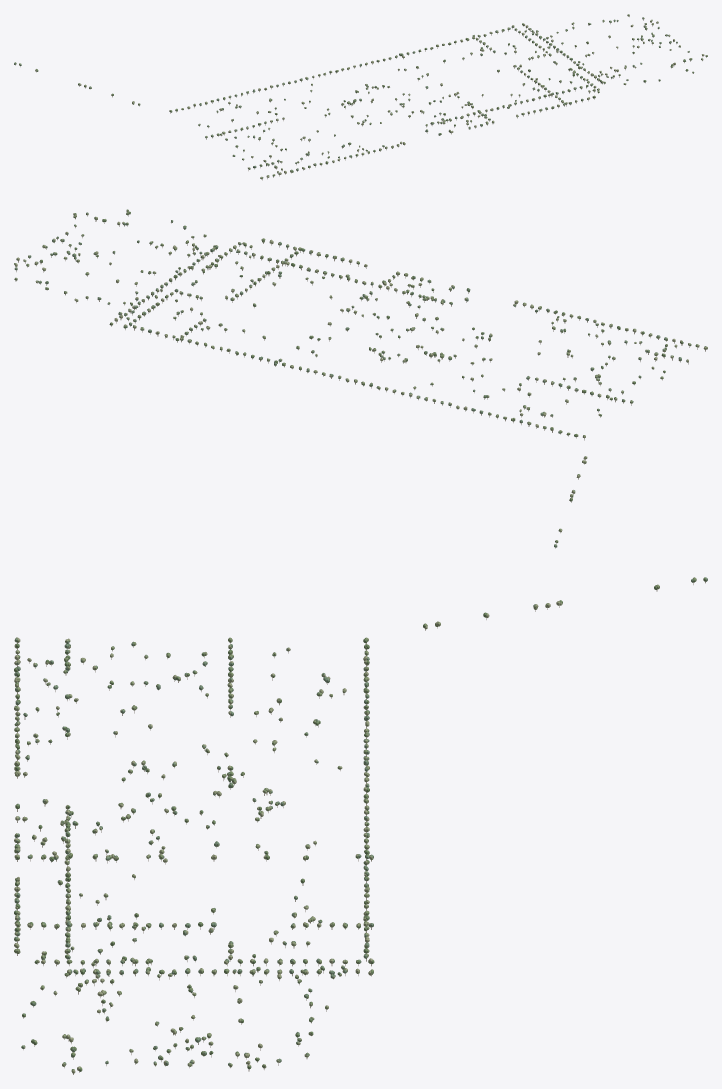
3 renders of one model, top to bottom at view 1: azimuth 30°, elevation 25°; view 2: azimuth 150°, elevation 25°; view 3: azimuth 270°, elevation 25°, orthographic. The views are drawn at different scales.
Parts seen in each view (by area): view 1: Canopy 2 details.001, Canopy 3 details.001, Canopy 4 details.001, Canopy 0 details.001, Canopy 1 details.001, Tree bark details.001; view 2: Canopy 4 details.001, Canopy 3 details.001, Canopy 2 details.001, Canopy 1 details.001, Canopy 0 details.001, Tree bark details.001; view 3: Canopy 3 details.001, Canopy 2 details.001, Canopy 4 details.001, Canopy 0 details.001, Canopy 1 details.001, Tree bark details.001.
Boxes of the visible parts, x1,y1,x2,y2 form: Canopy 2 details.001: (19, 17, 707, 179); Canopy 3 details.001: (14, 14, 702, 178); Canopy 4 details.001: (35, 15, 707, 177); Canopy 0 details.001: (15, 15, 707, 176); Canopy 1 details.001: (19, 14, 701, 172); Tree bark details.001: (15, 20, 706, 180); Canopy 4 details.001: (15, 210, 705, 532); Canopy 3 details.001: (14, 209, 705, 547); Canopy 2 details.001: (14, 212, 707, 530); Canopy 1 details.001: (14, 210, 687, 542); Canopy 0 details.001: (16, 211, 697, 545); Tree bark details.001: (15, 215, 705, 548); Canopy 3 details.001: (14, 577, 707, 1069); Canopy 2 details.001: (14, 582, 694, 1073); Canopy 4 details.001: (14, 601, 561, 1072); Canopy 0 details.001: (14, 577, 706, 1071); Canopy 1 details.001: (14, 577, 696, 1067); Tree bark details.001: (17, 582, 705, 1074).
Size of the model in its own units: 998 by 8.07 by 593.
